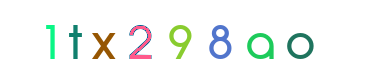1: (63, 0, 143, 80)
2: (136, 0, 216, 80)
8: (156, 0, 236, 80)
9: (145, 0, 225, 80)
A: (173, 0, 253, 80)
O: (176, 0, 256, 80)
T: (100, 0, 180, 80)
X: (134, 0, 214, 80)
